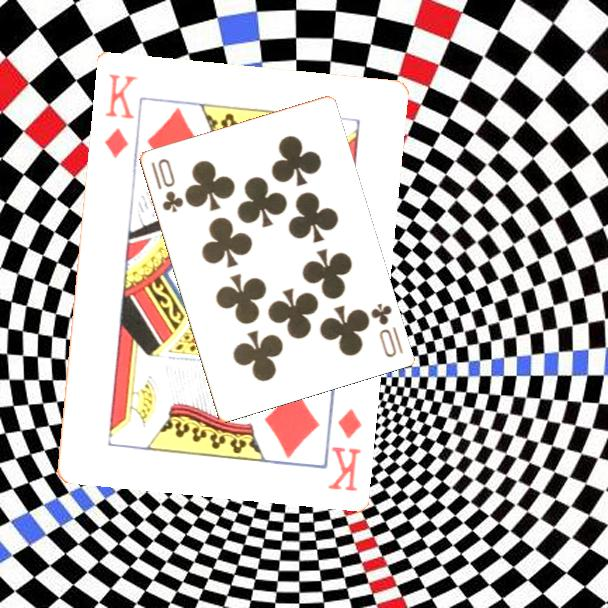c10: (147, 155, 186, 215), (367, 299, 405, 360)
d13: (100, 69, 140, 161), (324, 404, 364, 494)
